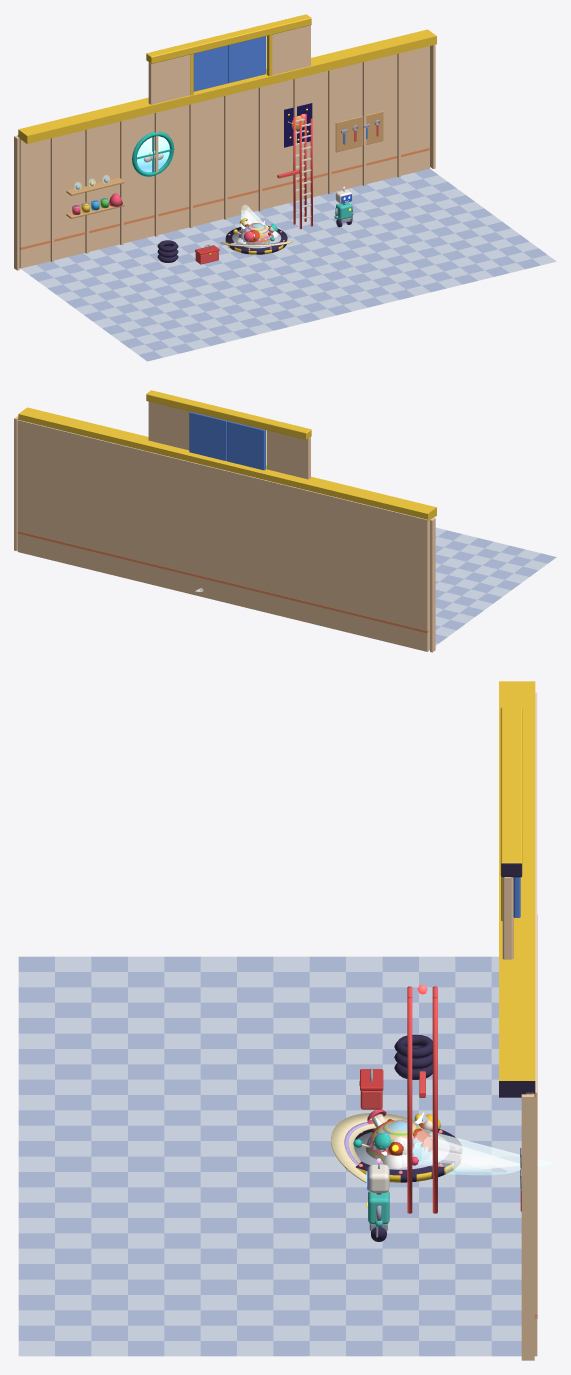
The model's file is world.glb.
3 renders of one model, top to bottom at view 1: azimuth 30°, elevation 25°; view 2: azimuth 150°, elevation 25°; view 3: azimuth 270°, elevation 25°, orthographic. The views are drawn at different scales.
Parts seen in each view (by area): view 1: garage_floor, garage_wall, garage_beam, garage, garage_hatch_lintel, garage_hatch_pocket_l, garage_hatch_pocket_r, garage_door_r, garage_door_l, garage_peg_board, garage_wall_stripe, garage_wall_post_-6 (+9 smaller); view 2: garage_wall, garage_floor, garage_beam, garage_hatch_lintel, garage_hatch_pocket_l, garage_hatch_pocket_r, garage_door_l, garage_door_r, garage_wall_stripe, garage_wall_post_-6, garage; view 3: garage_floor, garage_beam, garage, garage_hatch_lintel, comet_tail_0, garage_wall, comet_tail_1, dest_ringed_band, garage_gantry_post_0.35_0.35, garage_gantry_post_0.35_-0.35, garage_pad_body, garage_hatch_pocket_r.
Boxes of the visible parts, x1=… form: garage_floor: x1=21, y1=169, x2=556, y2=361; garage_wall: x1=17, y1=46, x2=429, y2=268; garage_beam: x1=18, y1=29, x2=436, y2=143; garage: x1=157, y1=44, x2=435, y2=262; garage_hatch_lintel: x1=146, y1=14, x2=311, y2=63; garage_hatch_pocket_l: x1=148, y1=55, x2=190, y2=104; garage_hatch_pocket_r: x1=272, y1=25, x2=310, y2=75; garage_door_r: x1=228, y1=36, x2=265, y2=83; garage_door_l: x1=193, y1=45, x2=227, y2=91; garage_peg_board: x1=335, y1=111, x2=383, y2=152; garage_wall_stripe: x1=19, y1=148, x2=430, y2=249; garage_wall_post_-6: x1=14, y1=135, x2=19, y2=270; garage_wall: x1=17, y1=420, x2=429, y2=651; garage_floor: x1=435, y1=527, x2=556, y2=645; garage_beam: x1=18, y1=407, x2=436, y2=521; garage_hatch_lintel: x1=146, y1=390, x2=311, y2=439; garage_hatch_pocket_l: x1=267, y1=430, x2=310, y2=479; garage_hatch_pocket_r: x1=148, y1=401, x2=189, y2=450; garage_door_l: x1=227, y1=421, x2=265, y2=470; garage_door_r: x1=189, y1=411, x2=227, y2=460; garage_wall_stripe: x1=17, y1=531, x2=428, y2=633; garage_wall_post_-6: x1=430, y1=517, x2=435, y2=652; garage: x1=14, y1=416, x2=18, y2=550; garage_floor: x1=18, y1=956, x2=521, y2=1356; garage_beam: x1=499, y1=681, x2=535, y2=1097; garage: x1=394, y1=1034, x2=534, y2=1360; garage_hatch_lintel: x1=500, y1=707, x2=522, y2=877; comet_tail_0: x1=406, y1=1129, x2=552, y2=1175; garage_wall: x1=526, y1=692, x2=537, y2=1356; comet_tail_1: x1=421, y1=1137, x2=519, y2=1169; dest_ringed_band: x1=330, y1=1113, x2=415, y2=1183; garage_gantry_post_0.35_0.35: x1=432, y1=997, x2=437, y2=1213; garage_gantry_post_0.35_-0.35: x1=407, y1=997, x2=412, y2=1213; garage_pad_body: x1=355, y1=1128, x2=461, y2=1182; garage_hatch_pocket_r: x1=502, y1=877, x2=513, y2=959.
Size of the model in its own units: 26.56 by 12.33 by 14.67.
